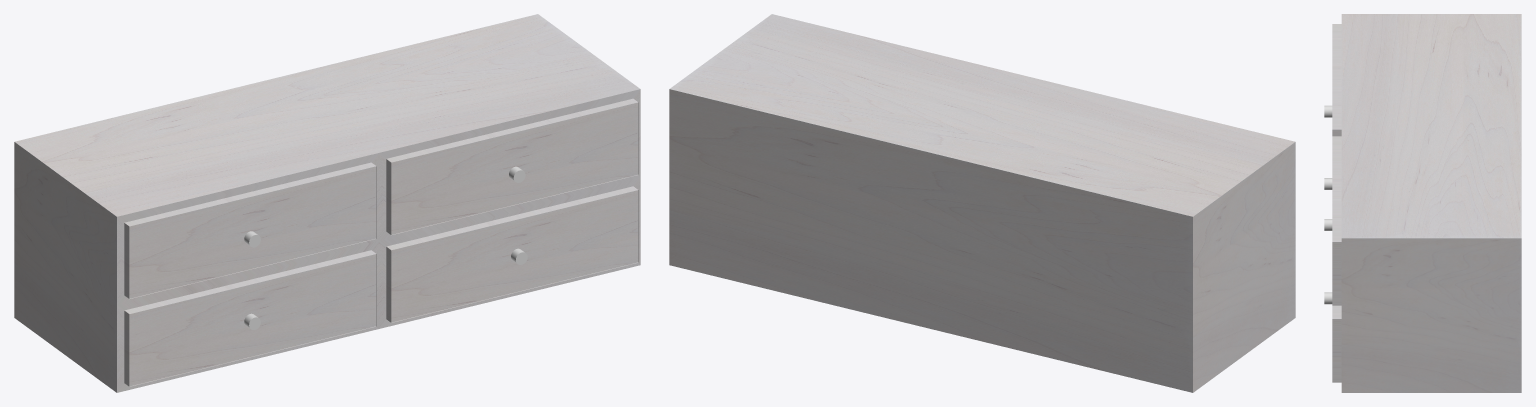
File: tvtable.fbx
3 views of the same model, side by side, from view 1: azimuth 30°, elevation 25°; view 2: azimuth 150°, elevation 25°; view 3: azimuth 270°, elevation 25° (orthographic). The views are drawn at different scales.
Parts seen in each view (by area): view 1: Box001; view 2: Box001; view 3: Box001.
Part boxes in pixels (x1,y1,x2,y2): Box001: [14, 14, 640, 392]; Box001: [669, 14, 1295, 392]; Box001: [1332, 14, 1521, 392].
Bounding box in the file's own units: 81.75 × 26.28 × 30.37.
Materials: 1 (1 with a texture image).
